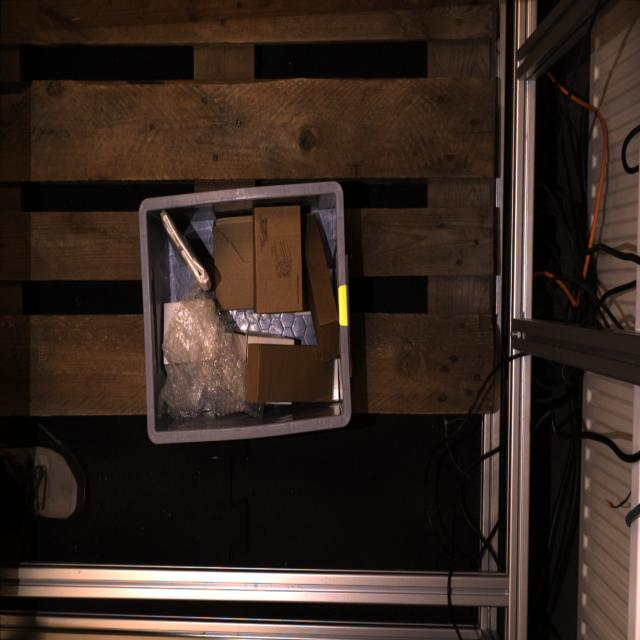CardboardBox: (301, 212, 339, 363), (246, 342, 334, 403), (253, 207, 303, 314), (213, 216, 254, 308), (163, 300, 217, 364), (247, 333, 295, 345), (233, 333, 248, 362), (332, 359, 340, 401)
Package: (156, 210, 213, 294)
PackagingAirBags: (160, 284, 261, 417)
